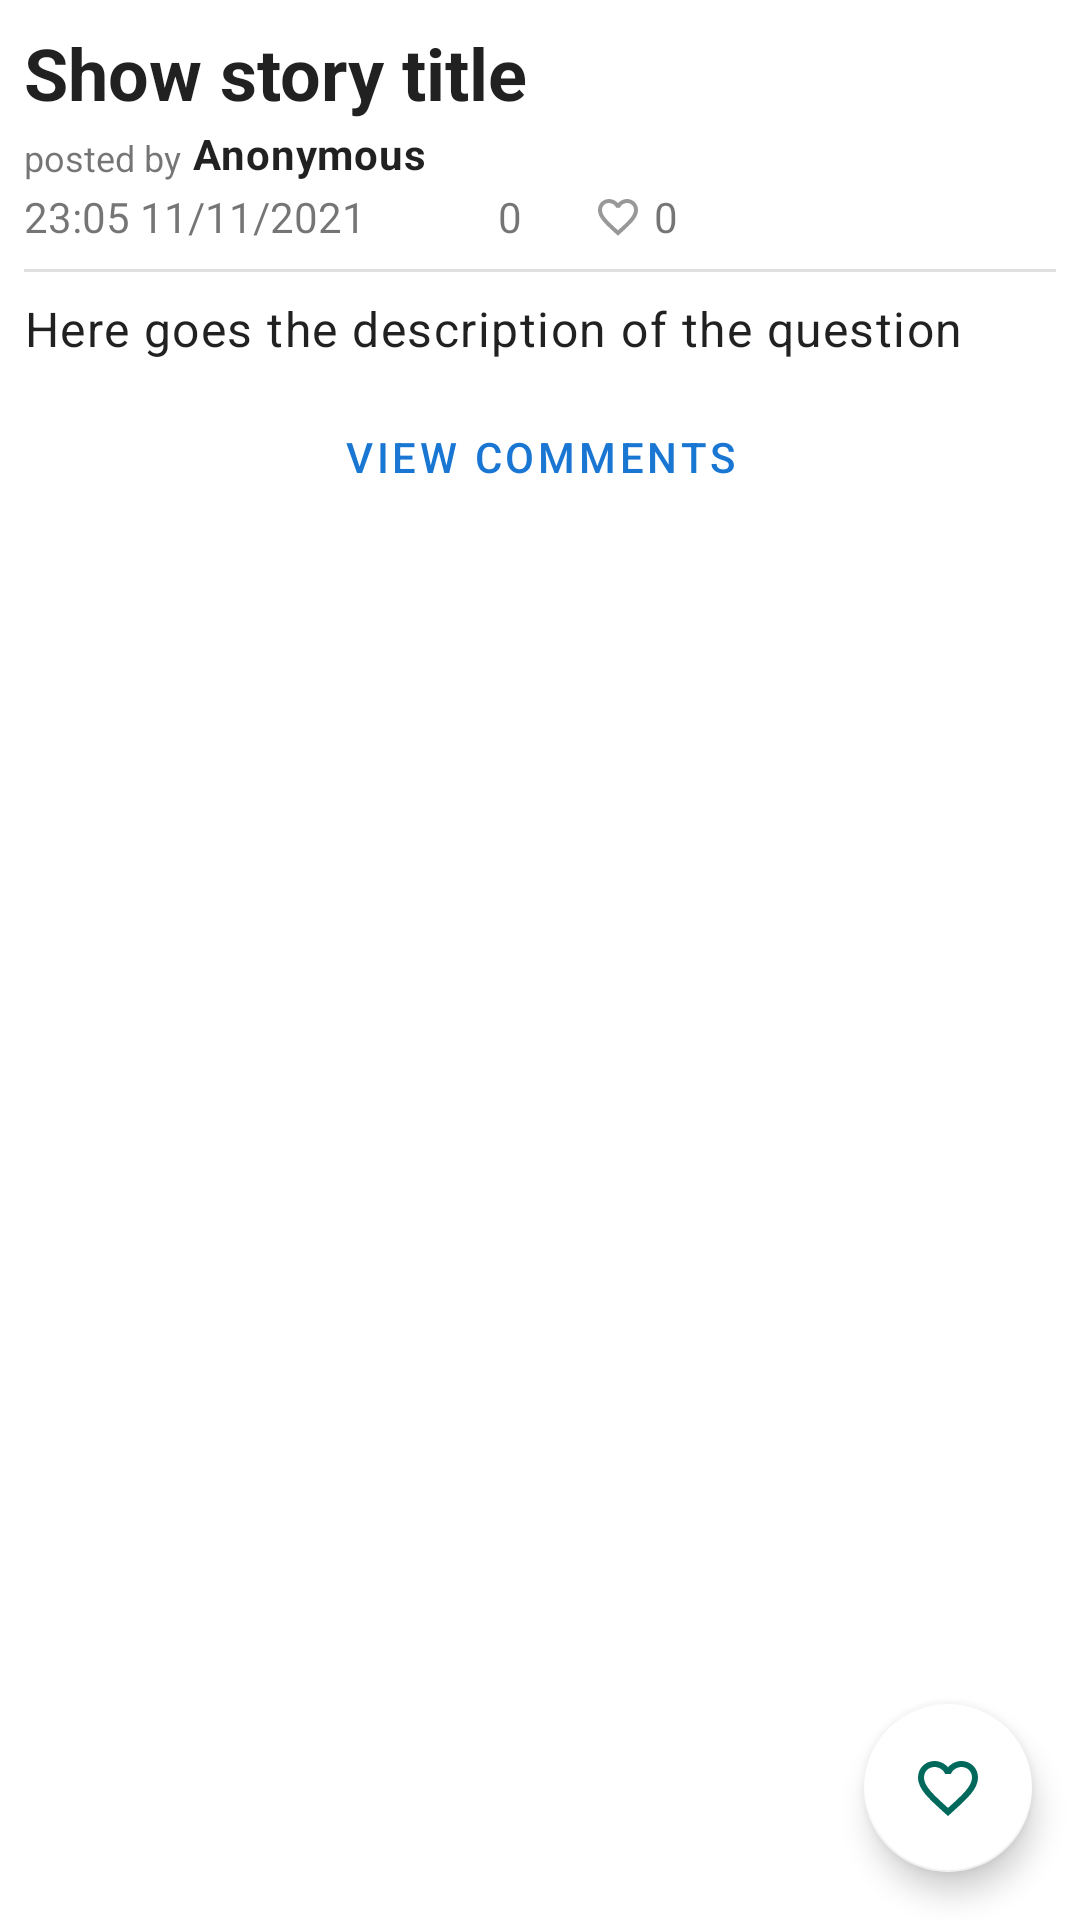

Named icons in this screenshot (1080px x 1920px) and their bounding boxes, box(x1, y1, x2, y2):
favorite border: box(598, 199, 638, 236)
